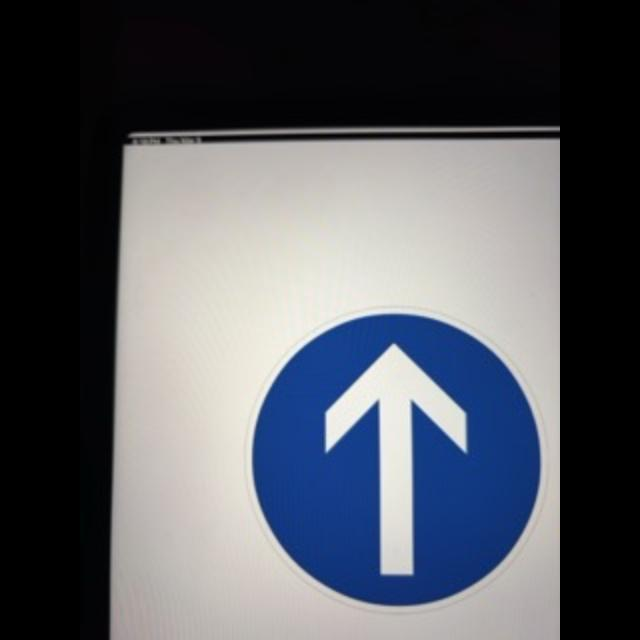GO FORWARD: (241, 305, 547, 617)
